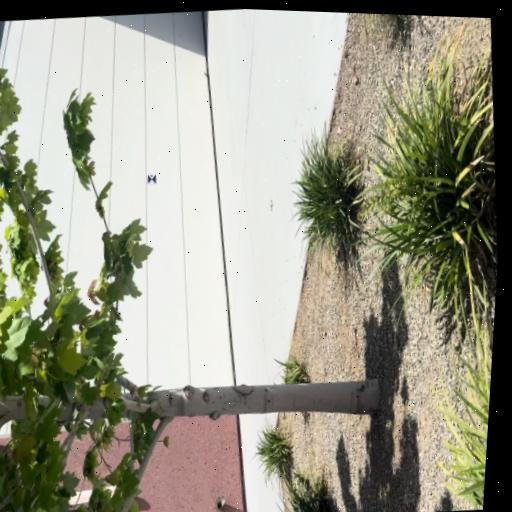target4: (148, 173, 156, 185)
